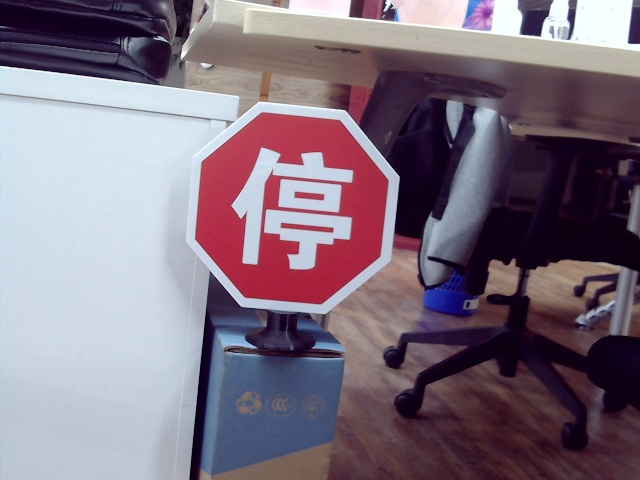stop: (229, 144, 351, 269)
